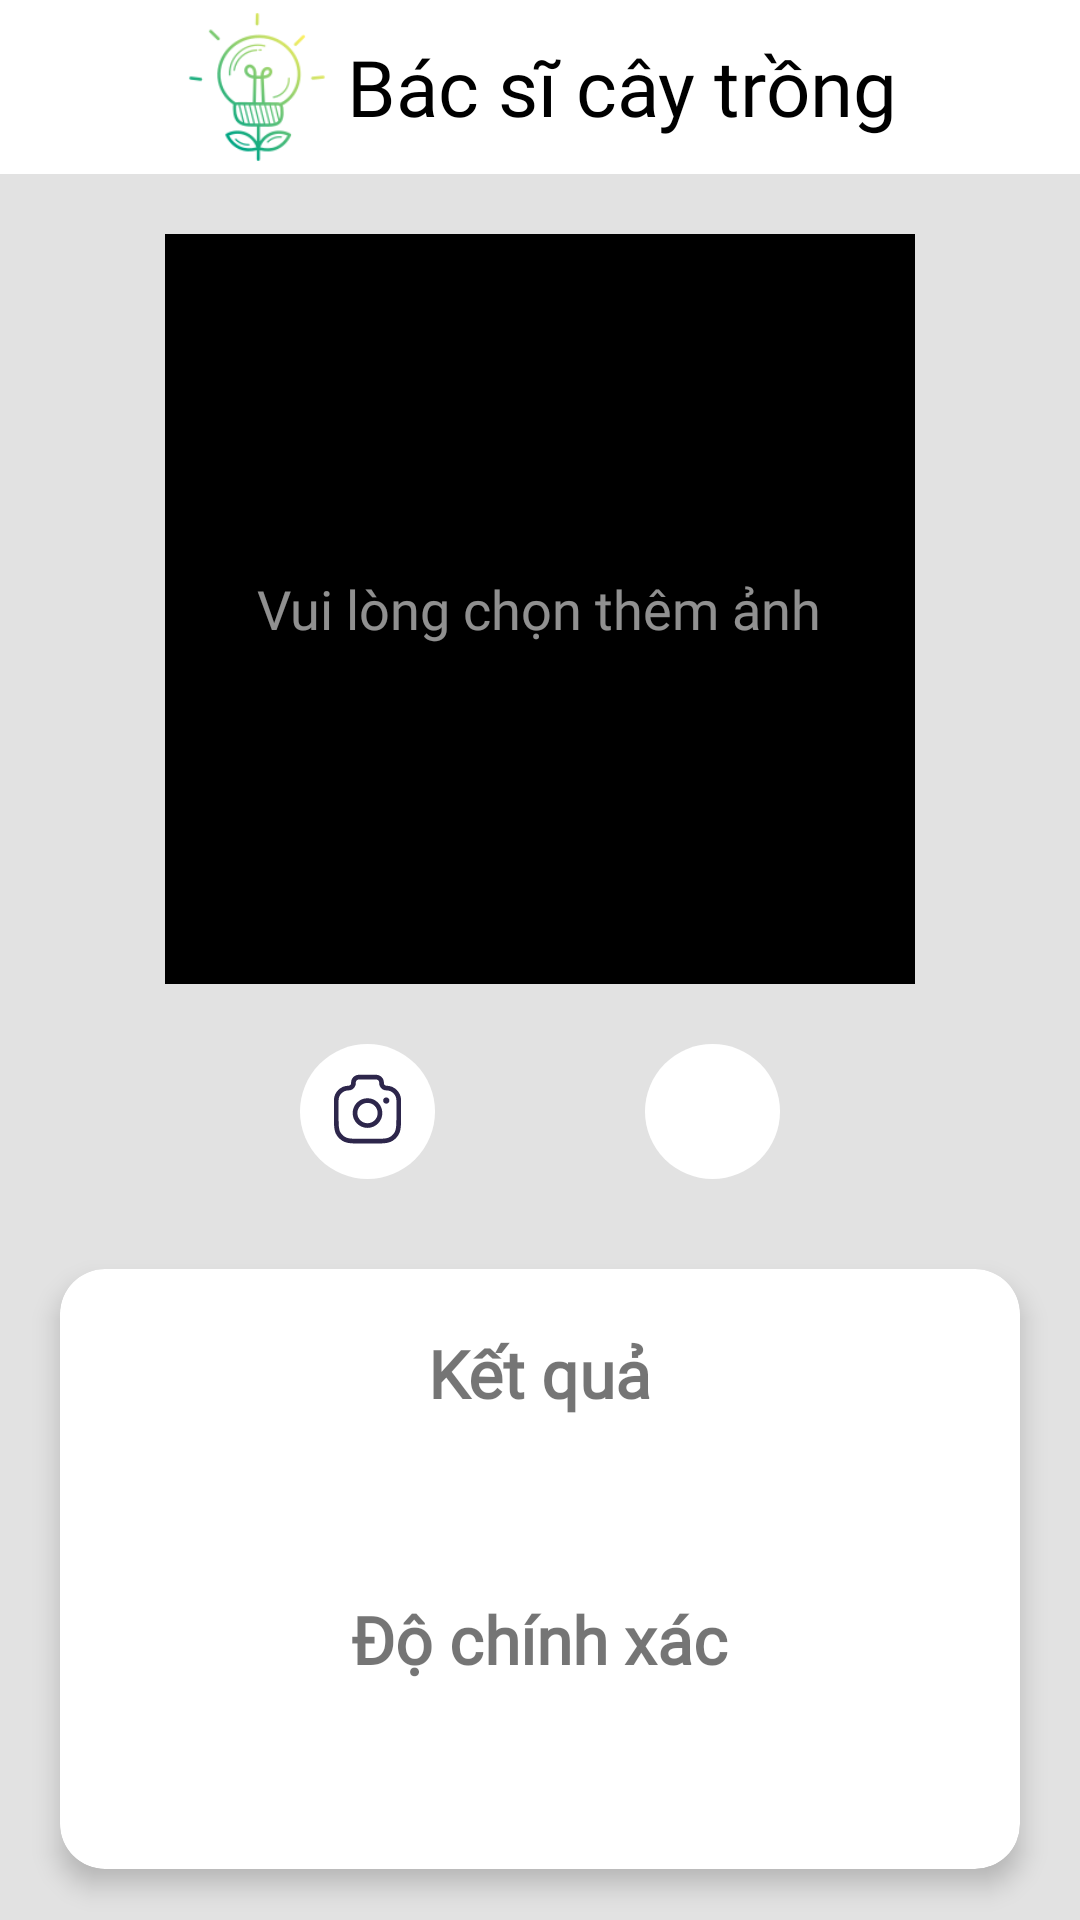

Screen size 1080 x 1920. Icon name, then its box in pixels as (x1, y1, x2, y2):
bio energy: (189, 13, 325, 161)
camera: (300, 1044, 435, 1179)
